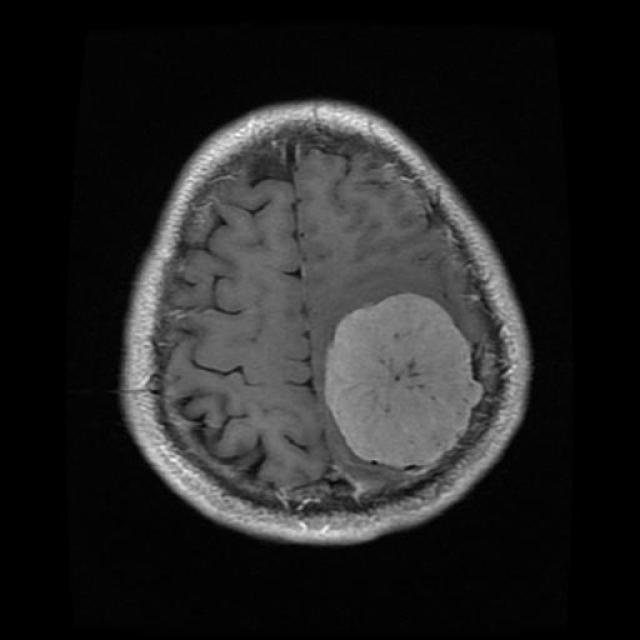meningioma: (316, 300, 477, 467)
